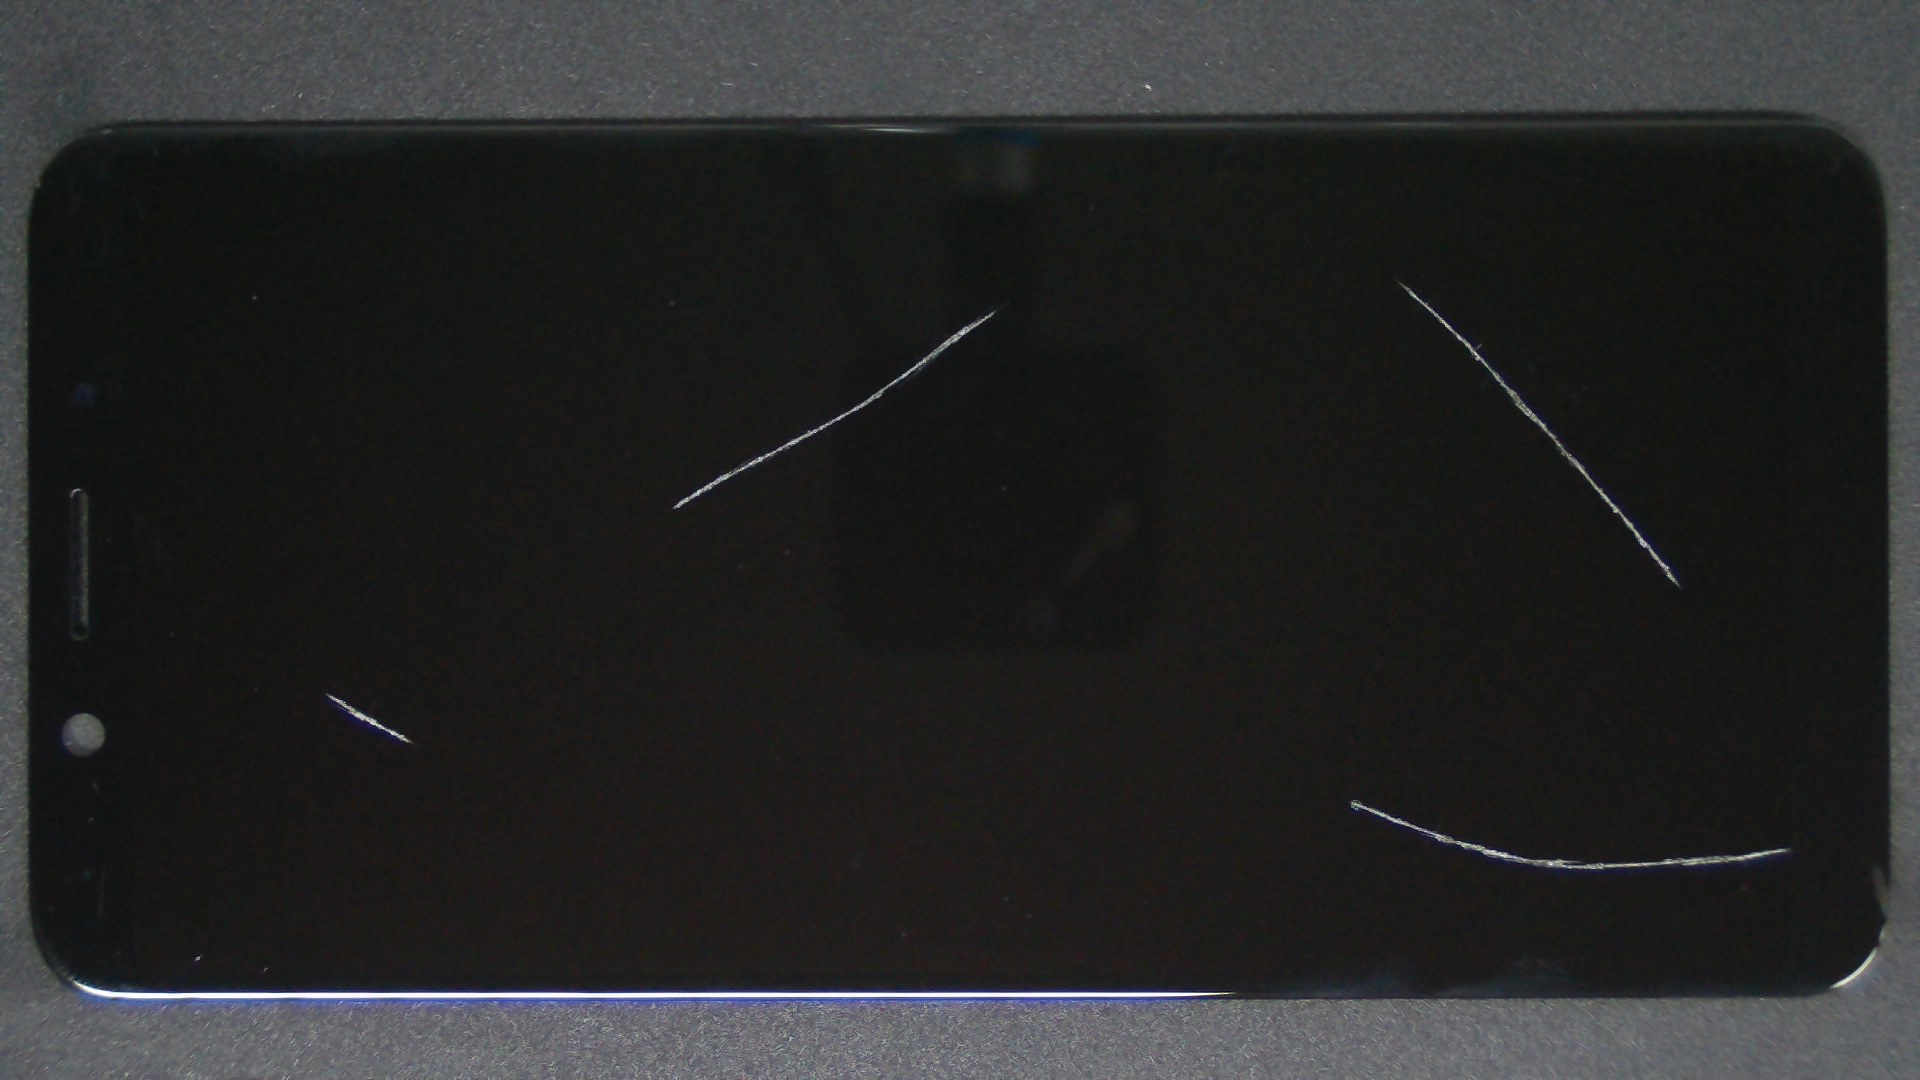oil: (678, 400, 1920, 1080), (702, 141, 1920, 423), (498, 154, 1494, 464), (162, 345, 488, 1040)
